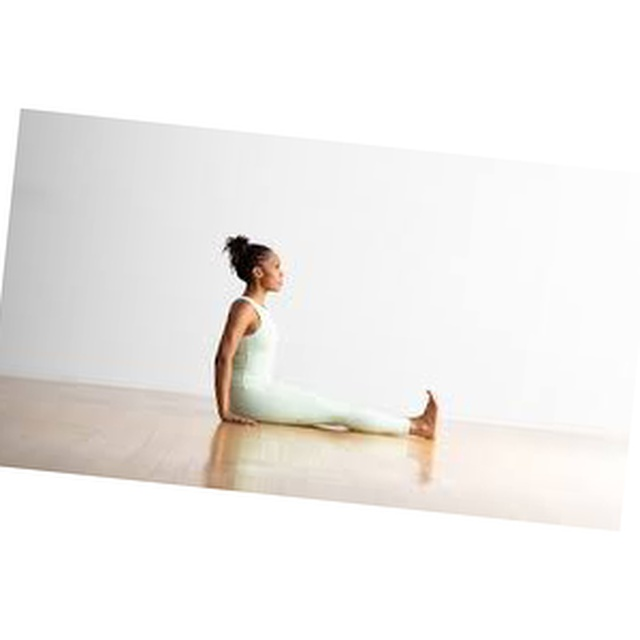Staff_Pose: (214, 234, 439, 444)
